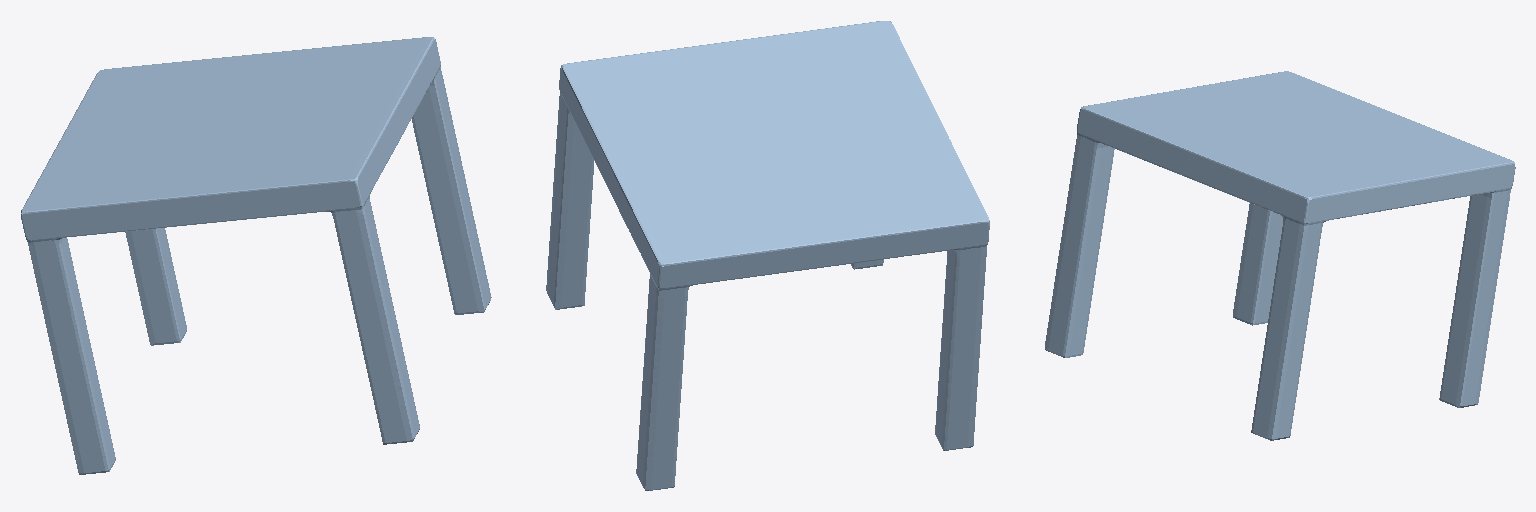
The robot description file, URDF, robot "largetable.urdf":
<?xml version="1.0" ?>
<robot name="largetable.urdf">
  <dynamics damping="0.5" friction="0.9"/>
  <link name="baseLink">
    <contact>
      <lateral_friction value="0.9"/>
      <rolling_friction value="0.5"/>
      <stiffness value="30000"/>
      <damping value="1000"/>
    </contact>
    <visual>
      <origin rpy="0 0 0" xyz="0 0 0"/>
      <geometry>
        <mesh filename="meshes/largetable/largetable.stl" scale="1.0 1.0 1.0"/>
      </geometry>
       <material name="mat">
        <color rgba="0.7 0.8 0.9 1"/>
      </material>
    </visual>
    <collision>
      <origin rpy="0 0 0" xyz="0 0 0"/>
      <geometry>
	 	<mesh filename="meshes/largetable/largetable.stl" scale="1.0 1.0 1.0"/>
      </geometry>
    </collision>
  </link>
</robot>

--- What the picture shows (computed from the rendered views, not written in the file) ---
Views: 3 orthographic renders of the robot side by side, from view 1: azimuth 30°, elevation 25°; view 2: azimuth 150°, elevation 25°; view 3: azimuth 270°, elevation 25°.
Model largetable.urdf with 1 links and 0 joints (none), rooted at baseLink, posed every joint at zero.
Links seen in each view (by area): view 1: baseLink; view 2: baseLink; view 3: baseLink.
Boxes of the visible links, box(x1,y1,x2,y2) form: baseLink: box(21, 37, 491, 474); baseLink: box(546, 21, 989, 490); baseLink: box(1045, 71, 1515, 440).
Size in the robot's own frame: 0.8467 by 0.845 by 0.5682 metres.
Meshes: 1 distinct files referenced, 1 mesh visuals loaded (1 binary STL).
